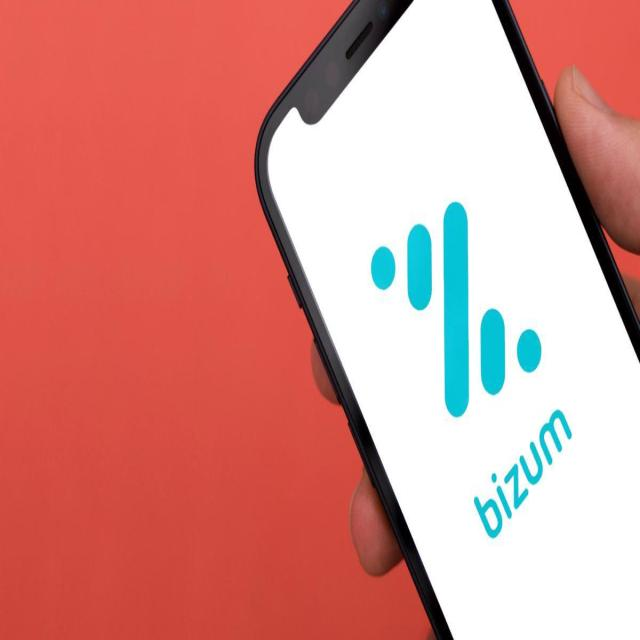bizum: (372, 201, 542, 418)
bizum_txt: (474, 409, 572, 539)
